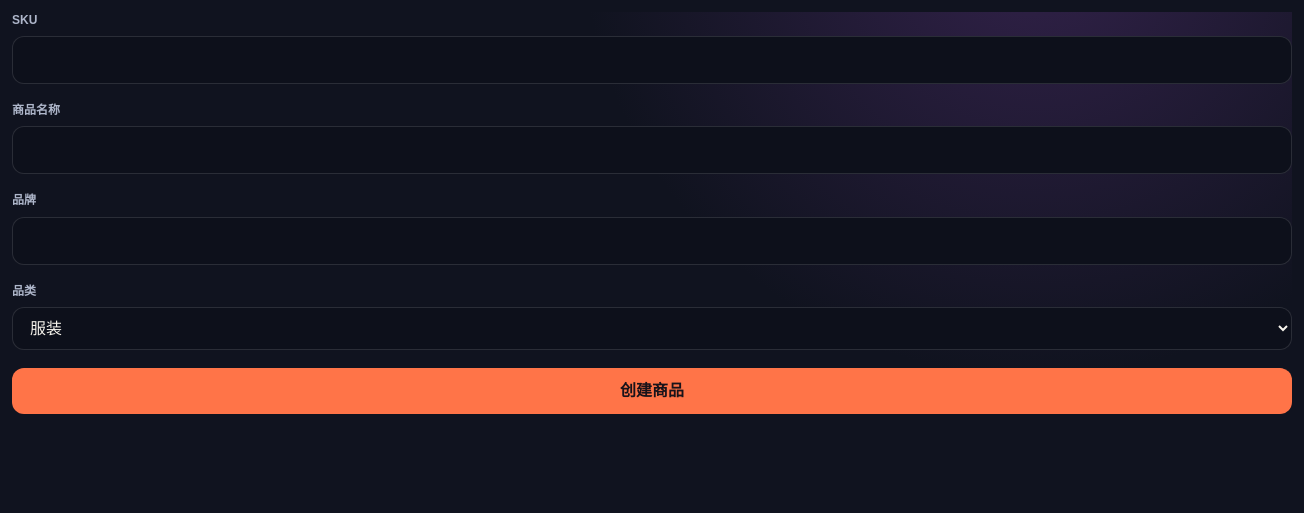
Test case: requires SKU and name
Click the button "创建商品": (652, 391) [12, 368, 1292, 414]
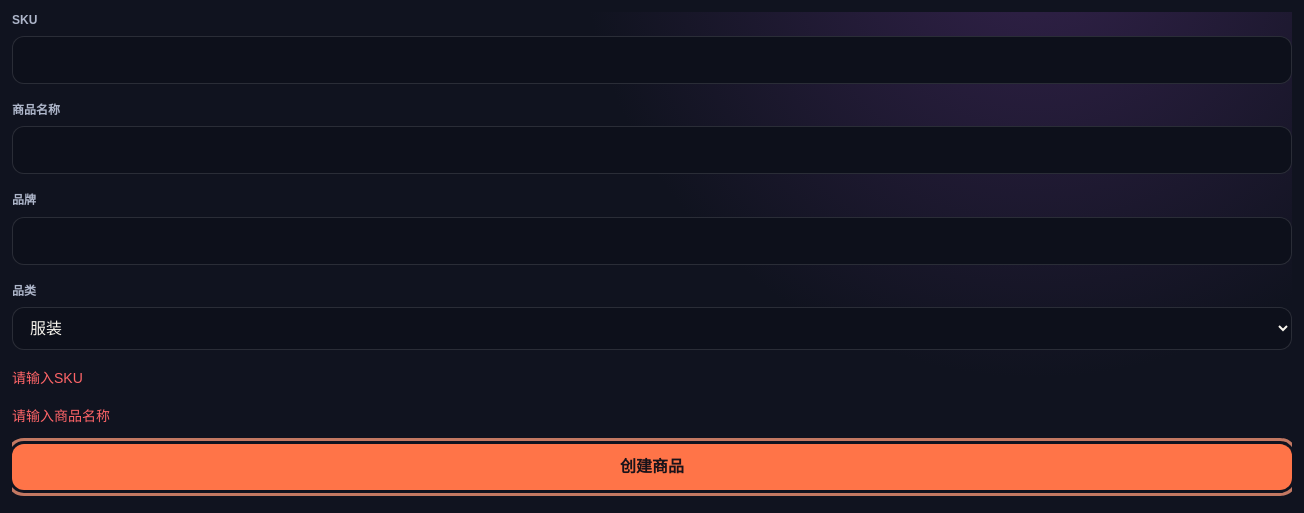
expect the text "请输入SKU" is shown: met, box [12, 370, 83, 386]
expect the text "请输入商品名称" is shown: met, box [12, 408, 110, 424]
